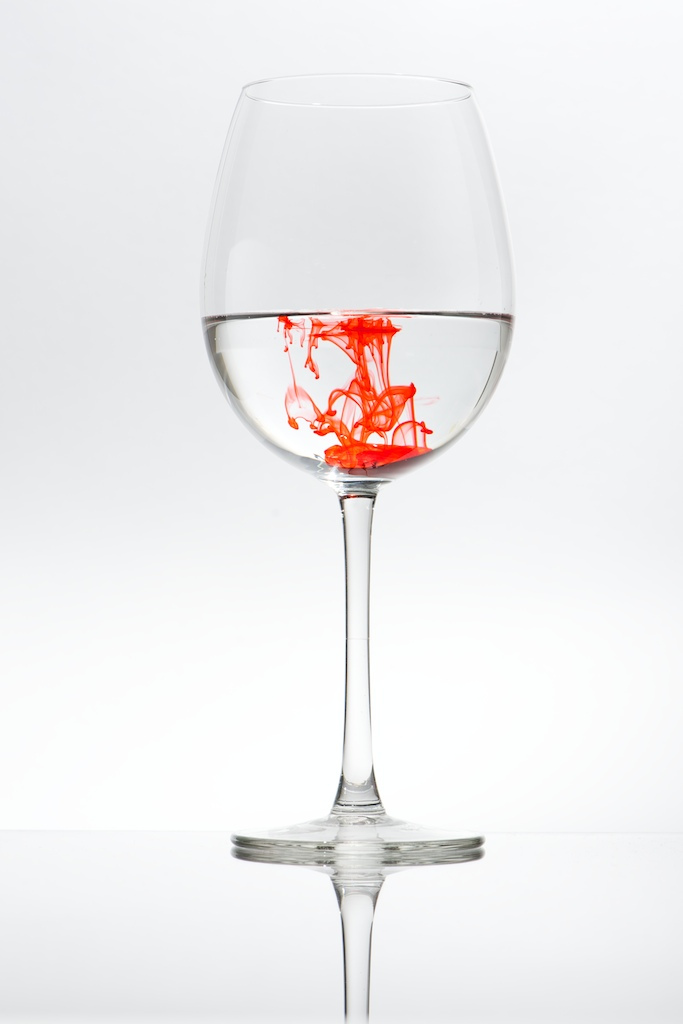glass of water: (206, 68, 517, 888)
